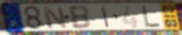4: (121, 5, 140, 30)
8: (23, 5, 44, 30)
B: (67, 5, 92, 30)
I: (101, 6, 111, 29)
L: (141, 6, 162, 28)
N: (42, 6, 69, 29)
